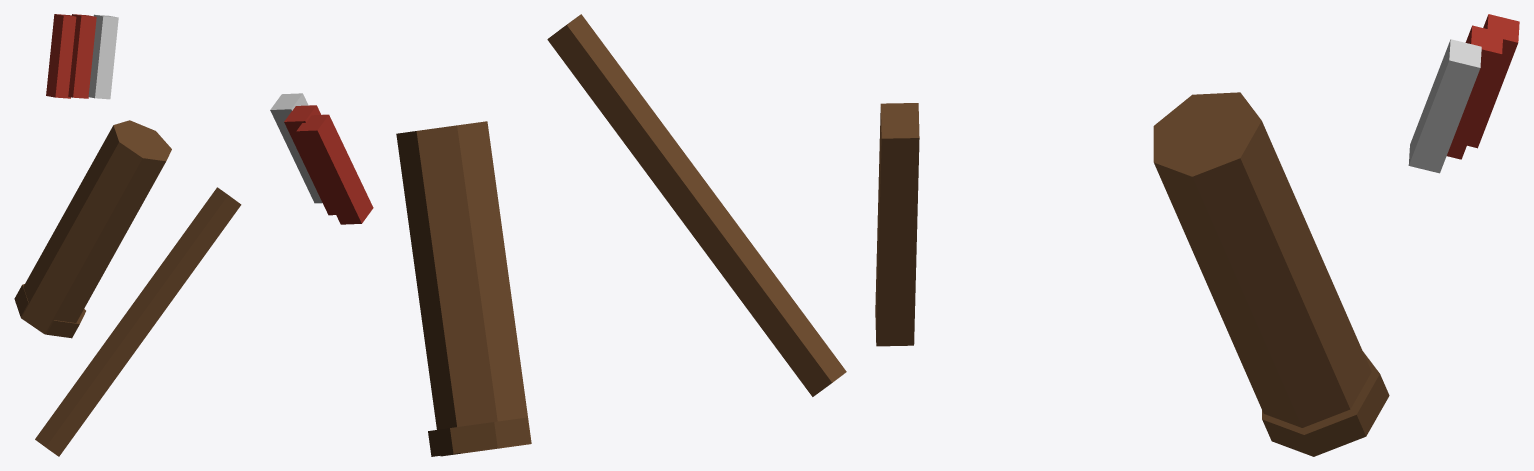
File: fld_quiver.glb
The picture shows the model from 3 angles, left to right: view 1: azimuth 30°, elevation 25°; view 2: azimuth 150°, elevation 25°; view 3: azimuth 270°, elevation 25°; orthographic projection. The views are drawn at different scales.
Visible parts, largest first — view 1: fld_quiver; view 2: fld_quiver; view 3: fld_quiver.
Part boxes in pixels (x1,y1,x2,y2): fld_quiver: (14, 14, 241, 456); fld_quiver: (270, 14, 846, 456); fld_quiver: (875, 14, 1519, 456).
Bounding box in the file's own units: 0.1783 × 0.1982 × 0.2382.
